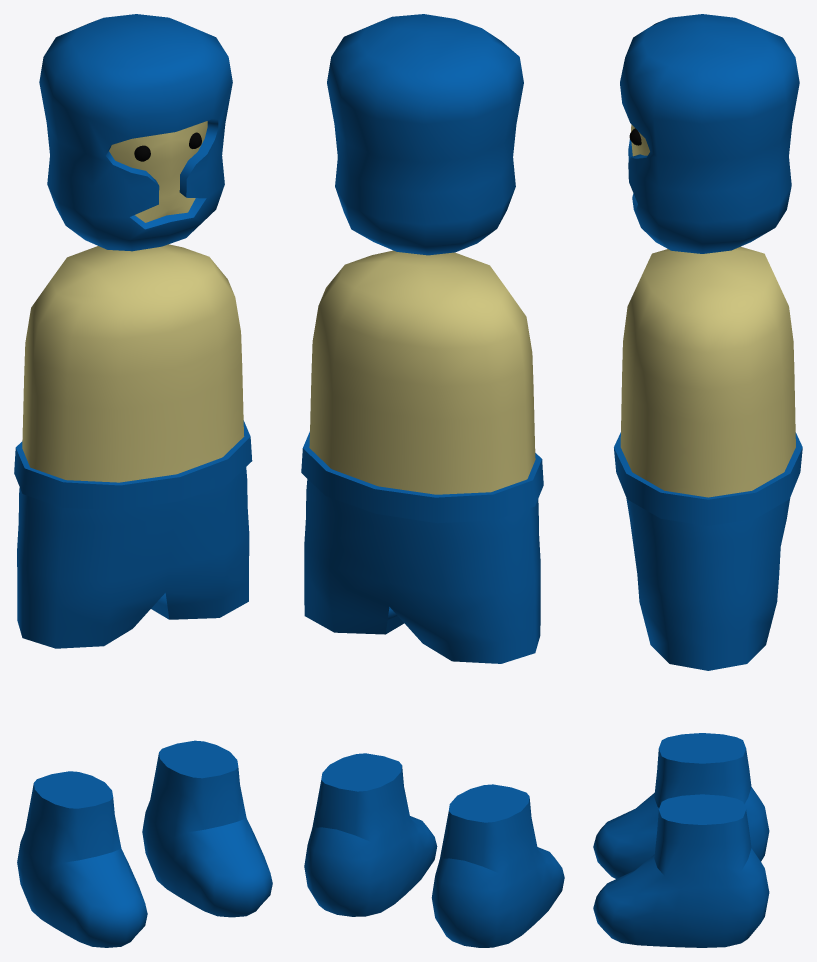
File: boxer_w.o_hands.fbx
3 renders of one model, left to right at view 1: azimuth 30°, elevation 25°; view 2: azimuth 150°, elevation 25°; view 3: azimuth 270°, elevation 25°, orthographic.
Visible parts, largest first — view 1: body1, helmet, L_boot1, R_boot1; view 2: body1, helmet, L_boot1, R_boot1; view 3: body1, helmet, L_boot1, R_boot1.
Boxes of the visible parts, x1,y1,x2,y2 form: body1: [14, 244, 252, 648]; helmet: [39, 14, 232, 251]; L_boot1: [142, 740, 272, 917]; R_boot1: [17, 771, 147, 947]; body1: [301, 250, 543, 663]; helmet: [327, 14, 523, 255]; L_boot1: [304, 753, 437, 916]; R_boot1: [431, 784, 564, 947]; body1: [614, 246, 802, 670]; helmet: [620, 14, 799, 253]; L_boot1: [593, 794, 769, 947]; R_boot1: [593, 733, 769, 878].
Size of the model in its own units: 0.616 by 2.29 by 0.5021.
